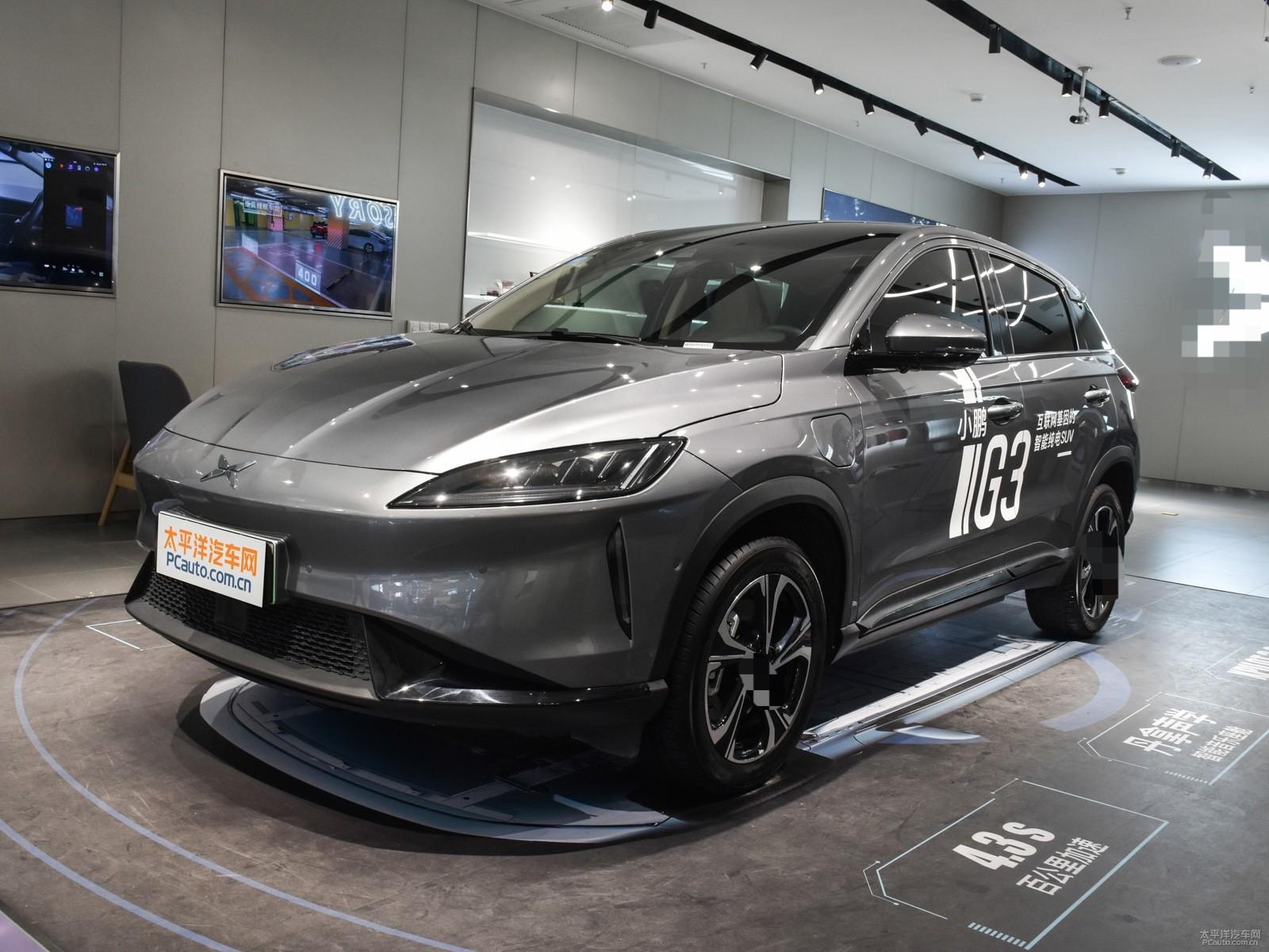XPeng Motors: (199, 453, 257, 489)
